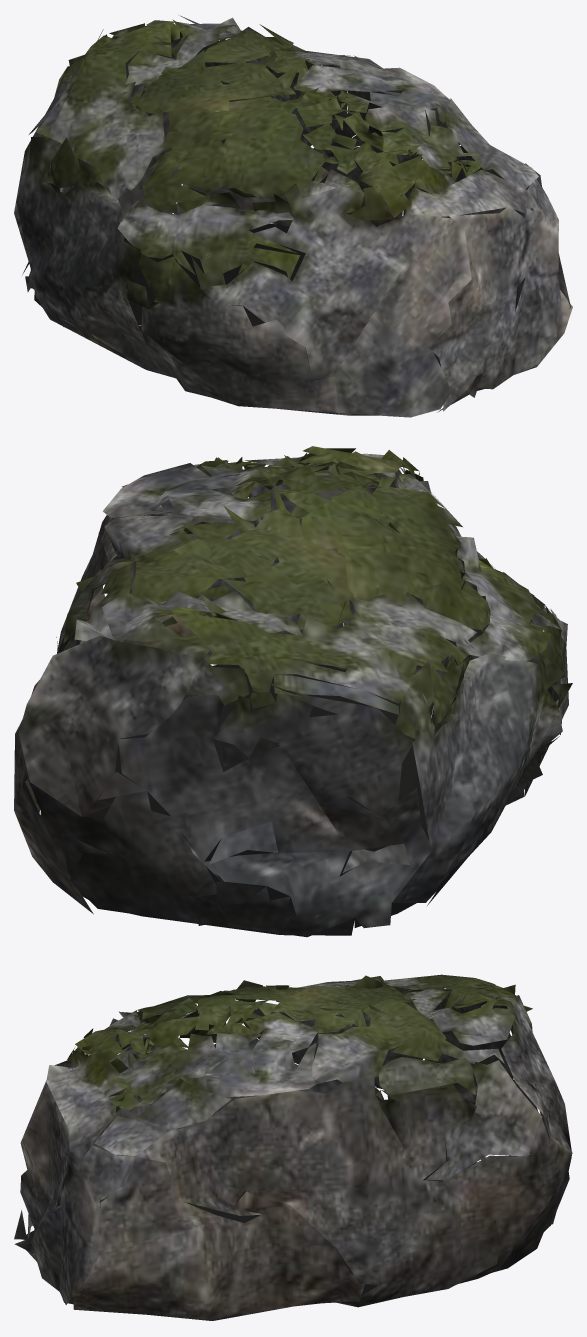
File: wald_felsen.glb
3 renders of one model, top to bottom at view 1: azimuth 30°, elevation 25°; view 2: azimuth 150°, elevation 25°; view 3: azimuth 270°, elevation 25°, orthographic. The views are drawn at different scales.
Visible parts, largest first — view 1: Prop; view 2: Prop; view 3: Prop.
Part boxes in pixels (x1,y1,x2,y2): Prop: [14, 15, 572, 417]; Prop: [14, 446, 572, 937]; Prop: [14, 974, 572, 1320].
Bounding box in the file's own units: 1.75 × 1.04 × 2.19.
1 material, 1 textured.
